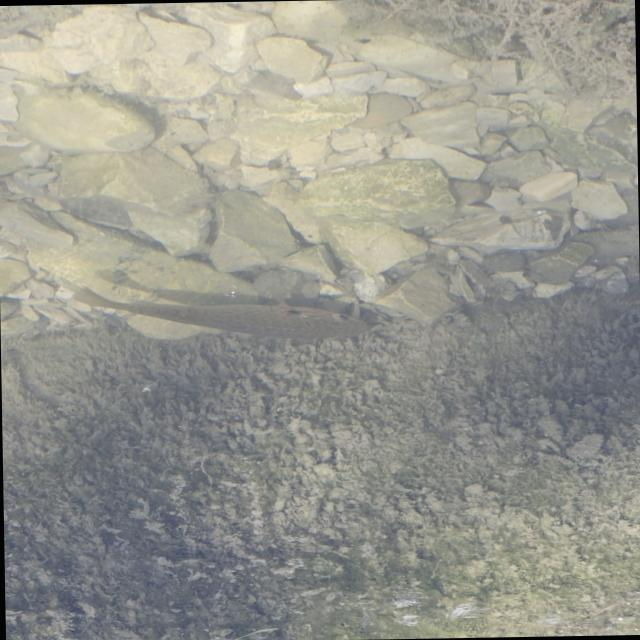Gunes Levregi: (60, 274, 372, 346)
